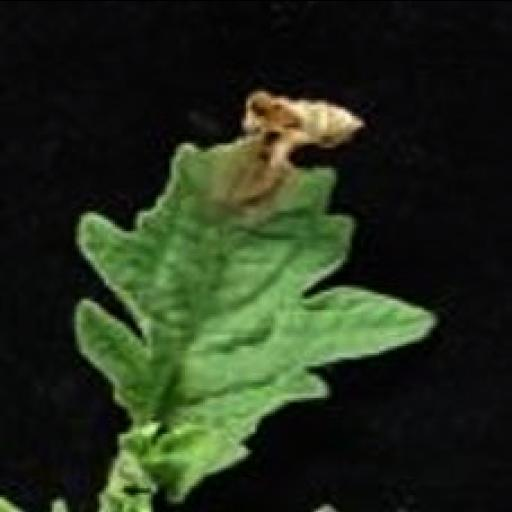Late Blight: (75, 86, 445, 502)
